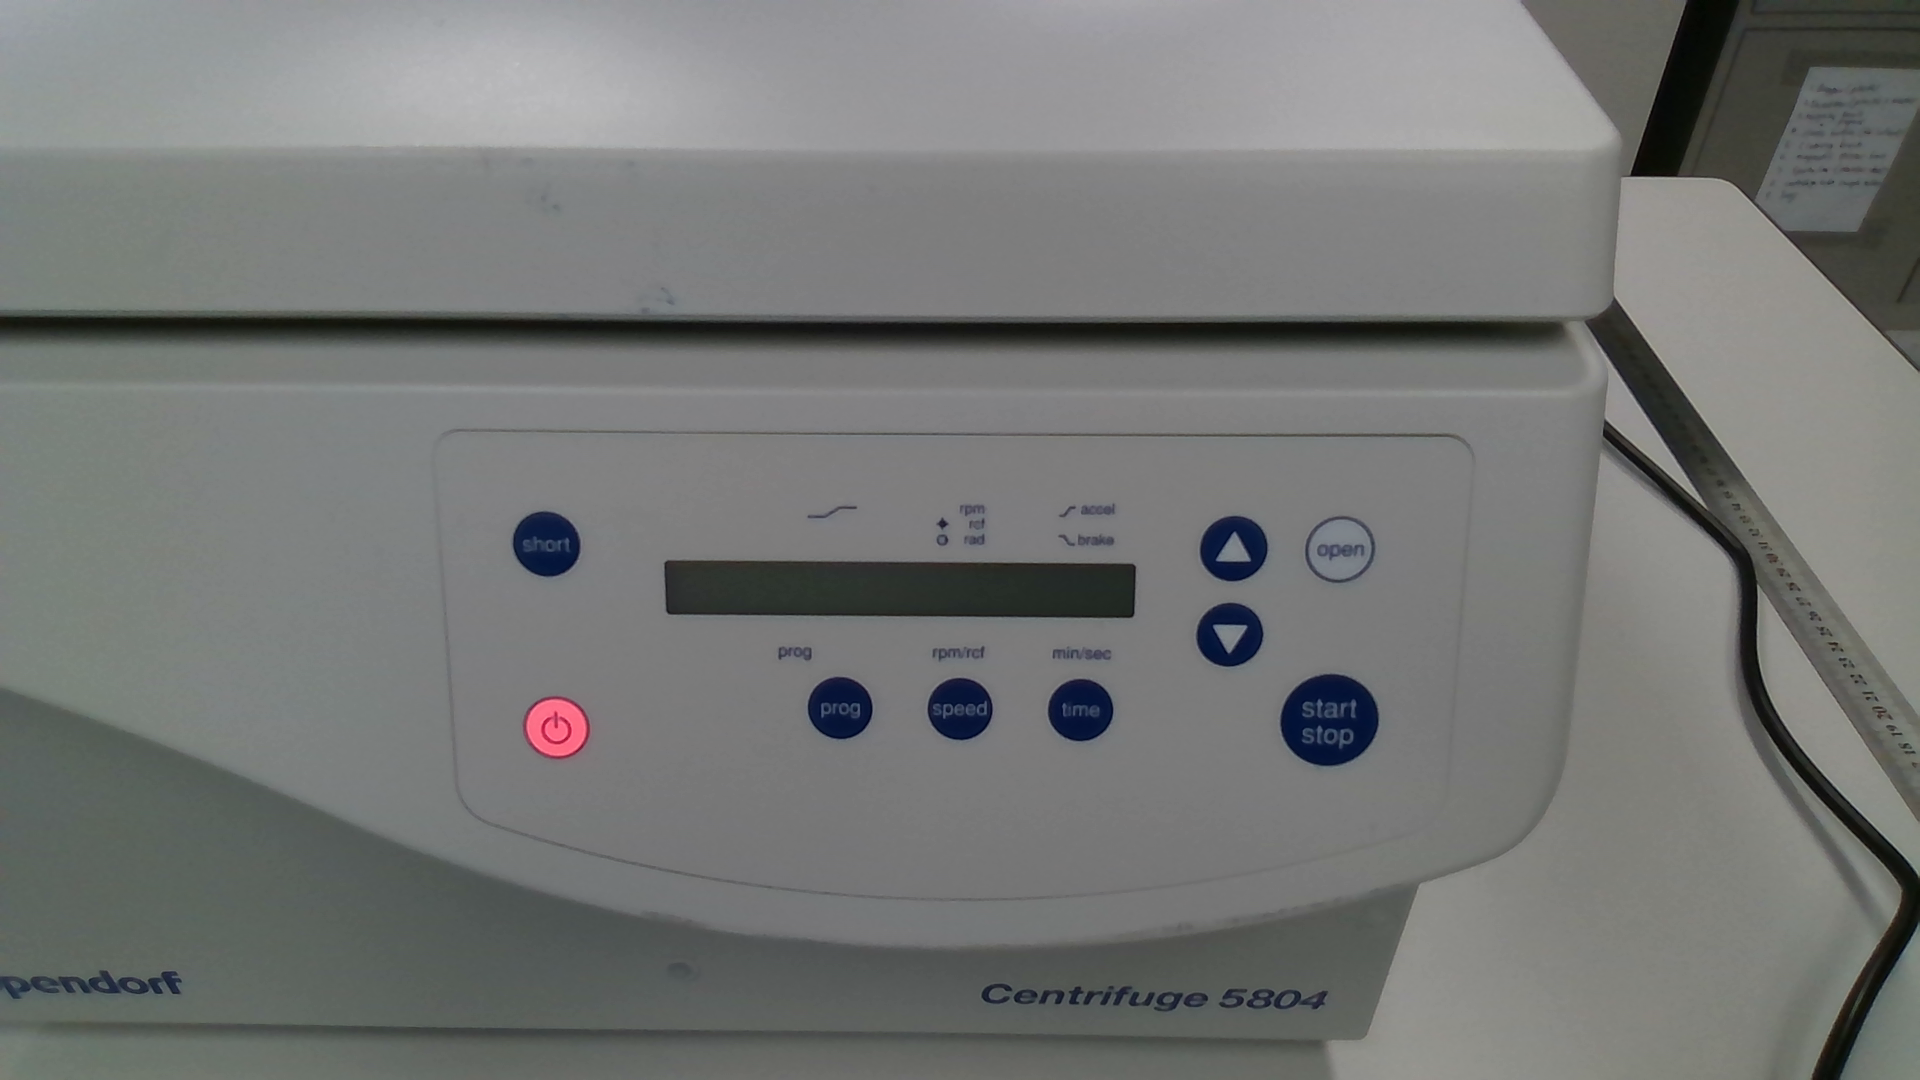open_off: (1304, 516, 1375, 584)
power_off: (522, 696, 589, 760)
